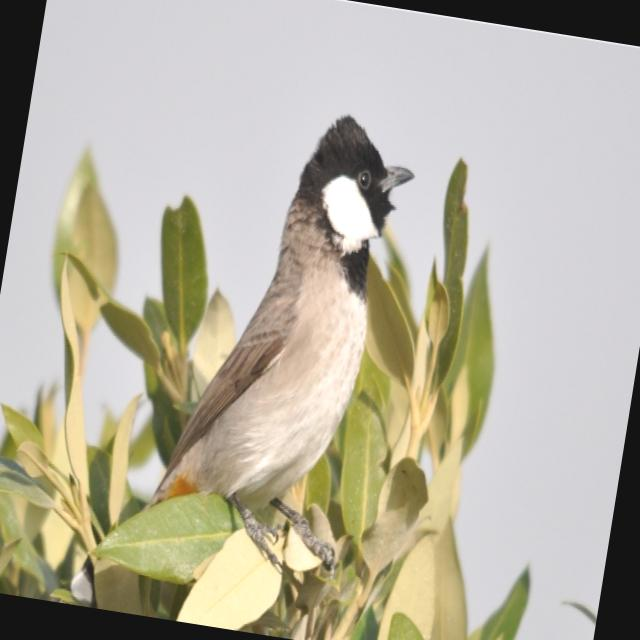bird: (126, 86, 430, 604)
